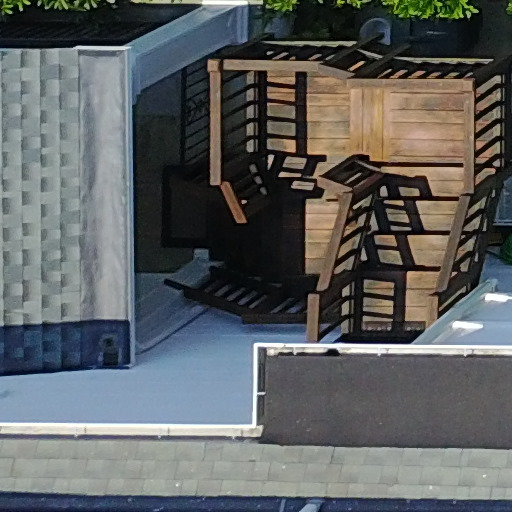porch: (130, 29, 505, 377)
